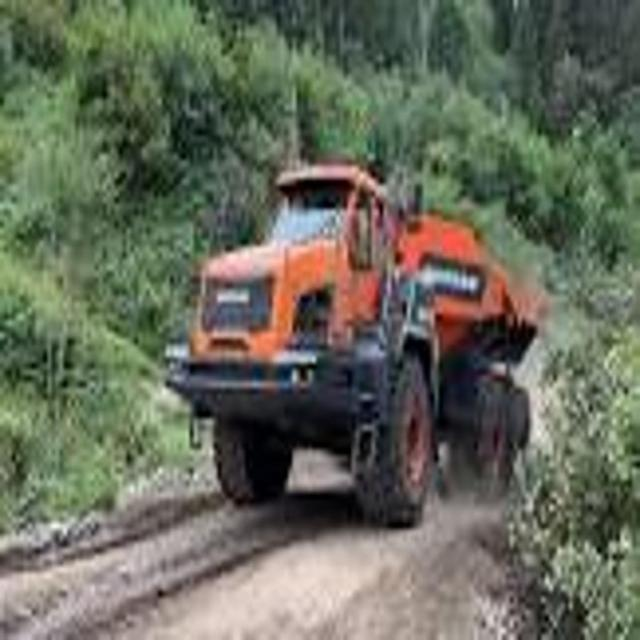dump_truck: (166, 130, 543, 558)
